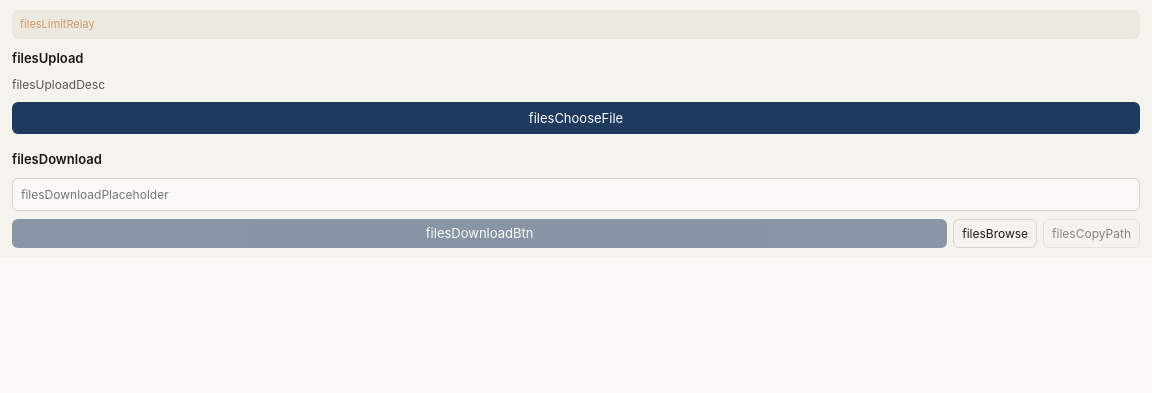
it: FilesPanel 下载 › FilesPanel_BrowserPickOversizePrecheck_1
This screenshot has width=1152, height=393.
Click the button "filesBrowse": coordinates (995, 233) [953, 218, 1037, 248]
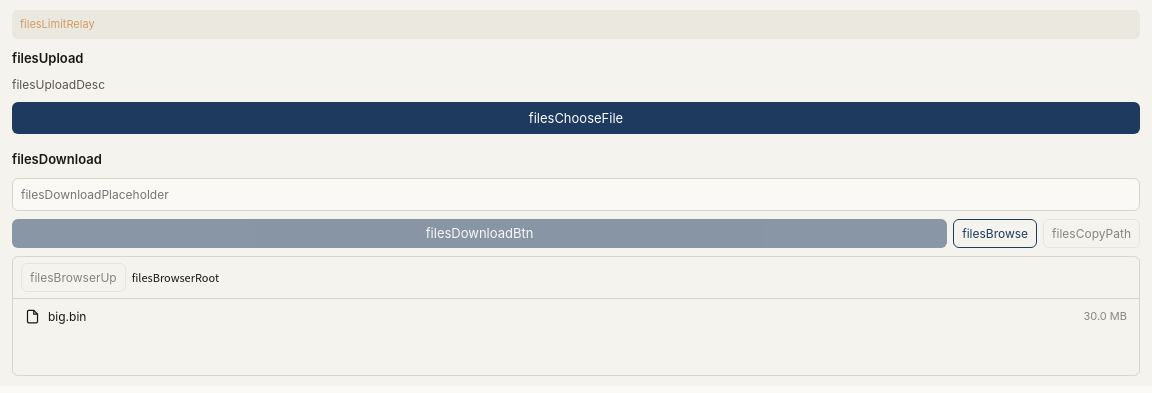
Click the button with class "browser-item": coordinates (67, 316) [17, 302, 1135, 330]
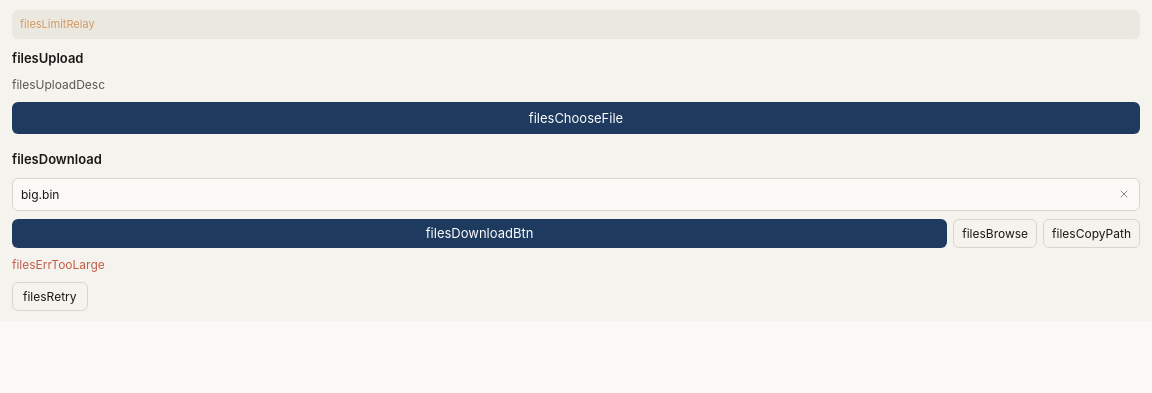
Check: the text "filesErrTooLarge" is shown, box [12, 256, 105, 272]
